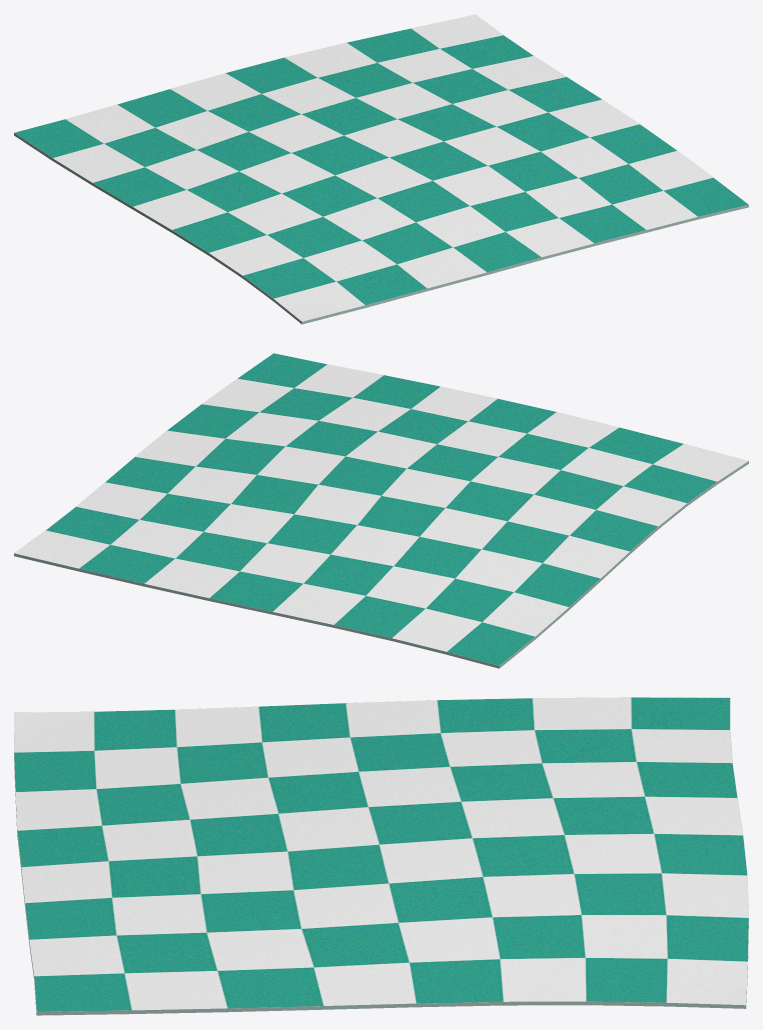
The model's file is plain.gltf.
3 renders of one model, top to bottom at view 1: azimuth 30°, elevation 25°; view 2: azimuth 150°, elevation 25°; view 3: azimuth 270°, elevation 25°, orthographic. The views are drawn at different scales.
Visible parts, largest first — view 1: Farbric; view 2: Farbric; view 3: Farbric.
Part boxes in pixels (x1=…): Farbric: x1=14, y1=14, x2=748, y2=324; Farbric: x1=14, y1=353, x2=748, y2=668; Farbric: x1=14, y1=697, x2=748, y2=1015.
Bounding box in the file's own units: 36.14 × 0.9718 × 35.74.
Materials: 1 (1 with a texture image).
